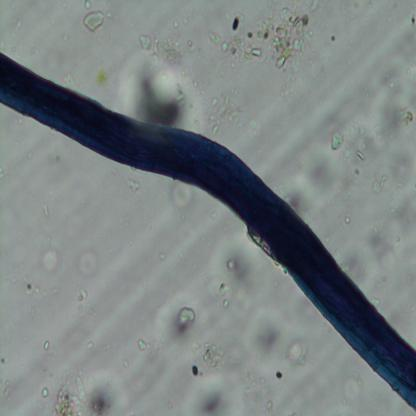Background material: (208, 2, 313, 68), (124, 46, 198, 130), (52, 366, 126, 414), (370, 192, 416, 264), (328, 76, 379, 132), (154, 294, 204, 348), (219, 251, 258, 311), (328, 124, 375, 172), (184, 377, 241, 415), (246, 305, 284, 358), (336, 362, 376, 408), (302, 147, 337, 195), (208, 92, 246, 136), (243, 364, 274, 414), (375, 101, 416, 138), (339, 242, 373, 286), (193, 338, 228, 377), (136, 35, 183, 64), (379, 61, 414, 97), (283, 63, 306, 104), (287, 178, 311, 217), (76, 247, 100, 282), (86, 61, 114, 91), (284, 336, 310, 367), (168, 183, 195, 212), (134, 333, 162, 360), (116, 171, 144, 195), (19, 272, 42, 300), (40, 249, 62, 277), (83, 11, 104, 32), (169, 10, 186, 29), (39, 192, 50, 220), (75, 288, 89, 305), (252, 115, 261, 136), (156, 249, 170, 262), (342, 211, 353, 224), (4, 382, 14, 396), (13, 13, 22, 28), (40, 387, 51, 399), (42, 338, 50, 352), (83, 0, 92, 10)
Cotton: (0, 53, 416, 410)
